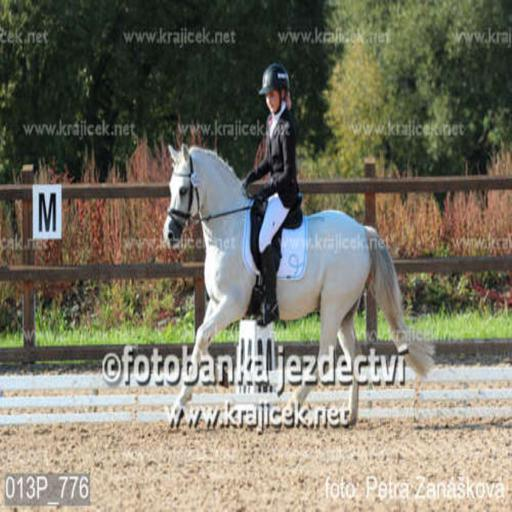horse: (164, 140, 434, 434)
